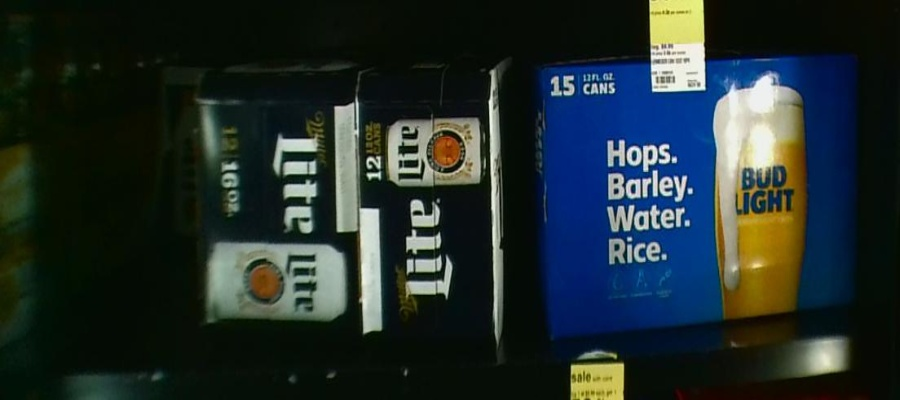bottle: (533, 55, 862, 319), (359, 67, 518, 358), (198, 65, 360, 344), (156, 60, 195, 262)
